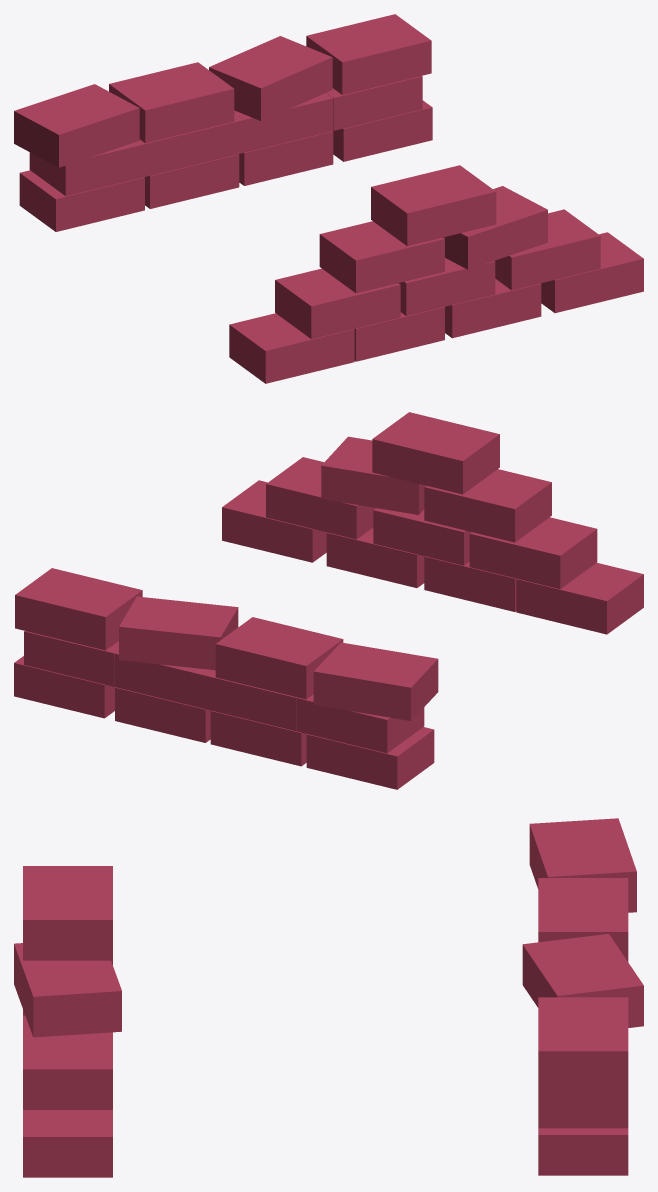
3 renders of one model, top to bottom at view 1: azimuth 30°, elevation 25°; view 2: azimuth 150°, elevation 25°; view 3: azimuth 270°, elevation 25°, orthographic. The views are drawn at different scales.
Parts seen in each view (by area): view 1: bottom.012, bottom.016, bottom.009, bottom.010, bottom.011, bottom.014, bottom.017, bottom.024, bottom.019, bottom.015, bottom.001, bottom.020 (+10 smaller); view 2: bottom.016, bottom.012, bottom.009, bottom.011, bottom.010, bottom.014, bottom.017, bottom.024, bottom.019, bottom.001, bottom.015, bottom.020 (+10 smaller); view 3: bottom.009, bottom.016, bottom.015, bottom.010, bottom.019, bottom.020, bottom.012, bottom.011, bottom.005, bottom.003.
Part boxes in pixels (bbox=[...]): bottom.012: bbox=[14, 84, 139, 167]; bottom.016: bbox=[371, 165, 496, 246]; bottom.009: bbox=[306, 14, 431, 94]; bottom.010: bbox=[209, 36, 332, 120]; bottom.011: bbox=[109, 62, 234, 143]; bottom.014: bbox=[319, 221, 444, 293]; bottom.017: bbox=[275, 268, 400, 339]; bottom.024: bbox=[229, 313, 354, 383]; bottom.019: bbox=[494, 209, 600, 290]; bottom.015: bbox=[443, 186, 547, 269]; bottom.001: bbox=[19, 170, 144, 231]; bottom.020: bbox=[541, 232, 643, 313]; bottom.016: bbox=[372, 412, 499, 494]; bottom.012: bbox=[313, 642, 438, 720]; bottom.009: bbox=[15, 568, 142, 650]; bottom.011: bbox=[215, 617, 343, 699]; bottom.010: bbox=[119, 596, 238, 670]; bottom.014: bbox=[424, 469, 551, 542]; bottom.017: bbox=[469, 517, 597, 589]; bottom.024: bbox=[516, 563, 643, 634]; bottom.019: bbox=[266, 457, 375, 539]; bottom.001: bbox=[306, 727, 434, 789]; bottom.015: bbox=[321, 436, 425, 514]; bottom.020: bbox=[222, 480, 326, 562]; bottom.009: bbox=[538, 997, 628, 1091]; bottom.016: bbox=[23, 866, 112, 960]; bottom.015: bbox=[14, 943, 121, 1037]; bottom.010: bbox=[522, 934, 643, 1027]; bottom.019: bbox=[23, 1015, 112, 1109]; bottom.020: bbox=[23, 1110, 112, 1177]; bottom.012: bbox=[529, 818, 636, 912]; bottom.011: bbox=[538, 878, 628, 961]; bottom.005: bbox=[538, 1128, 628, 1175]; bottom.003: bbox=[538, 1092, 628, 1128].
Bounding box in the file's own units: 9.12 × 3.04 × 10.3.
